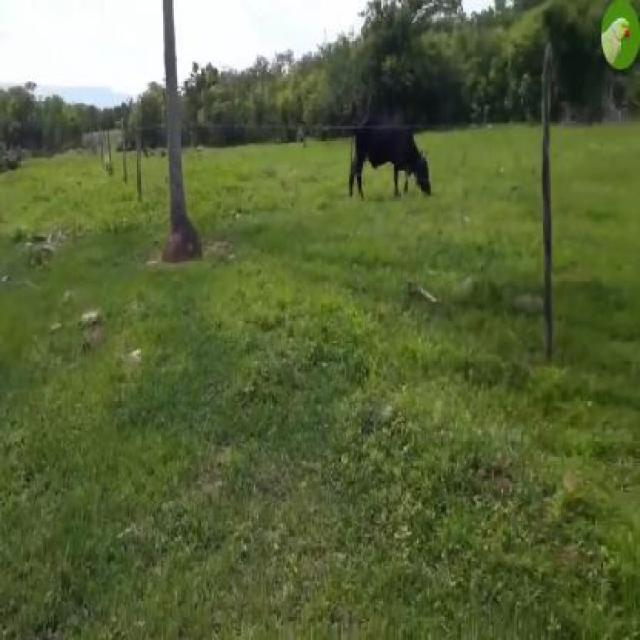Cow: (350, 118, 432, 204)
